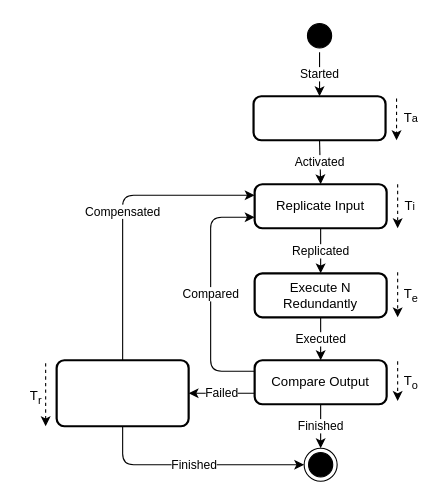
The diagram is 446 pixels wide and 501 high, and some of its shapes have lost their labels. The shapes that lost their labels are listed below. From the top down, each one's box as (x1, y1, x2, y2) in pixels, then its label:
(252, 95, 386, 141): Activate N Redundant (Sub-) Systems
(55, 359, 189, 427): Remove, Replace, or Discount Affected Redundant (Sub-) Systems
